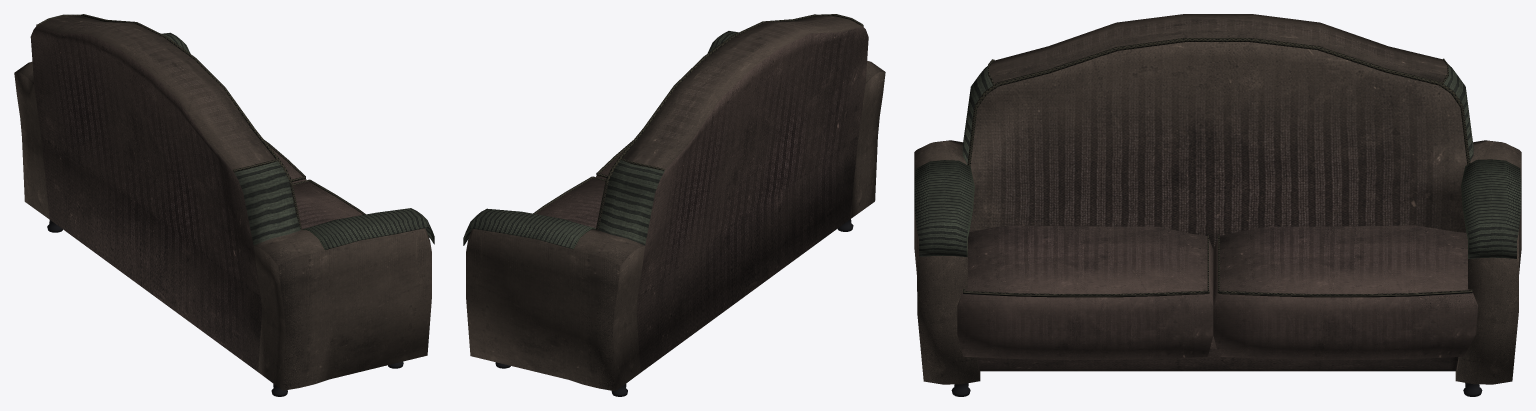
File: FPH_Couch.fbx
3 renders of one model, left to right at view 1: azimuth 30°, elevation 25°; view 2: azimuth 150°, elevation 25°; view 3: azimuth 270°, elevation 25°, orthographic. The views are drawn at different scales.
Parts seen in each view (by area): view 1: FPH_Couch_Diffuse; view 2: FPH_Couch_Diffuse; view 3: FPH_Couch_Diffuse.
Boxes of the visible parts, <box> form: FPH_Couch_Diffuse: <box>14,14,434,396</box>; FPH_Couch_Diffuse: <box>463,14,885,396</box>; FPH_Couch_Diffuse: <box>914,14,1521,396</box>.
Size of the model in its own units: 4.65 by 6.43 by 11.84.
